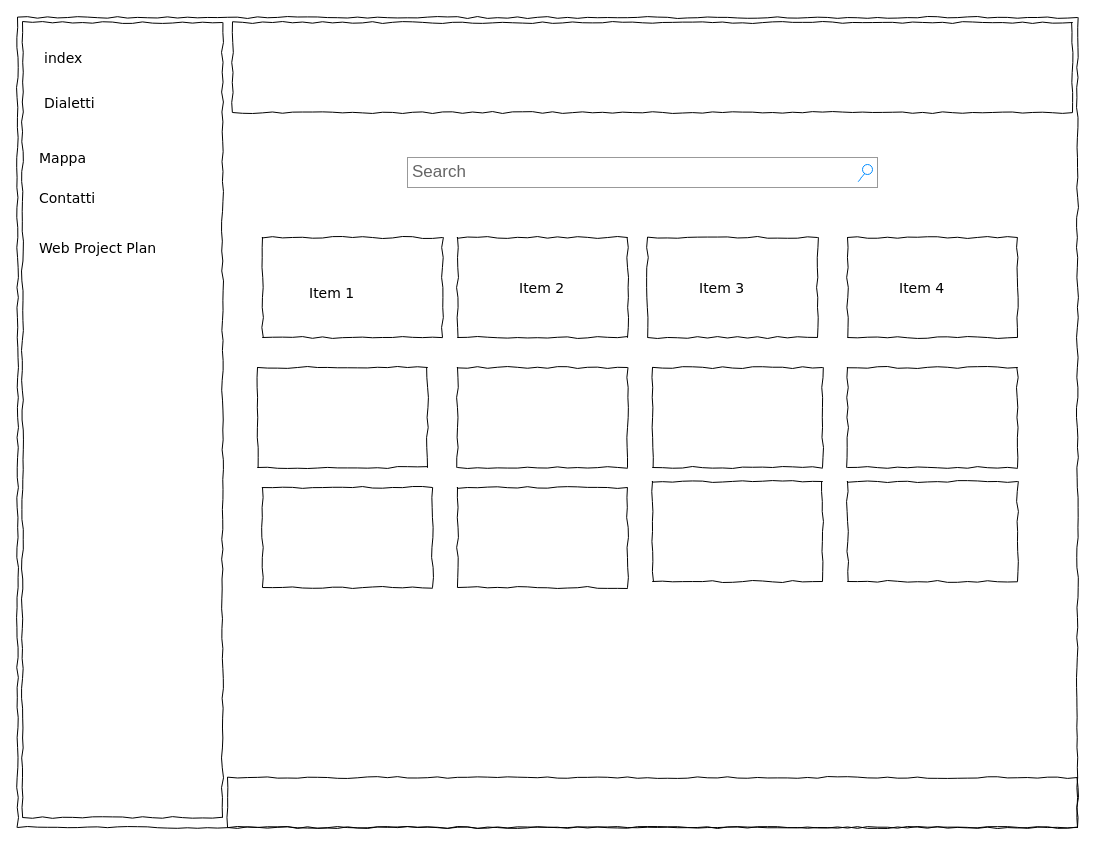
Image size: 1095x845. Some labels were removed from this diagram. The centre of each missing label's shape, as x and y in pixels:
DIALETTI Sottotitolo: the point at 652,67
Footer: the point at 652,802
